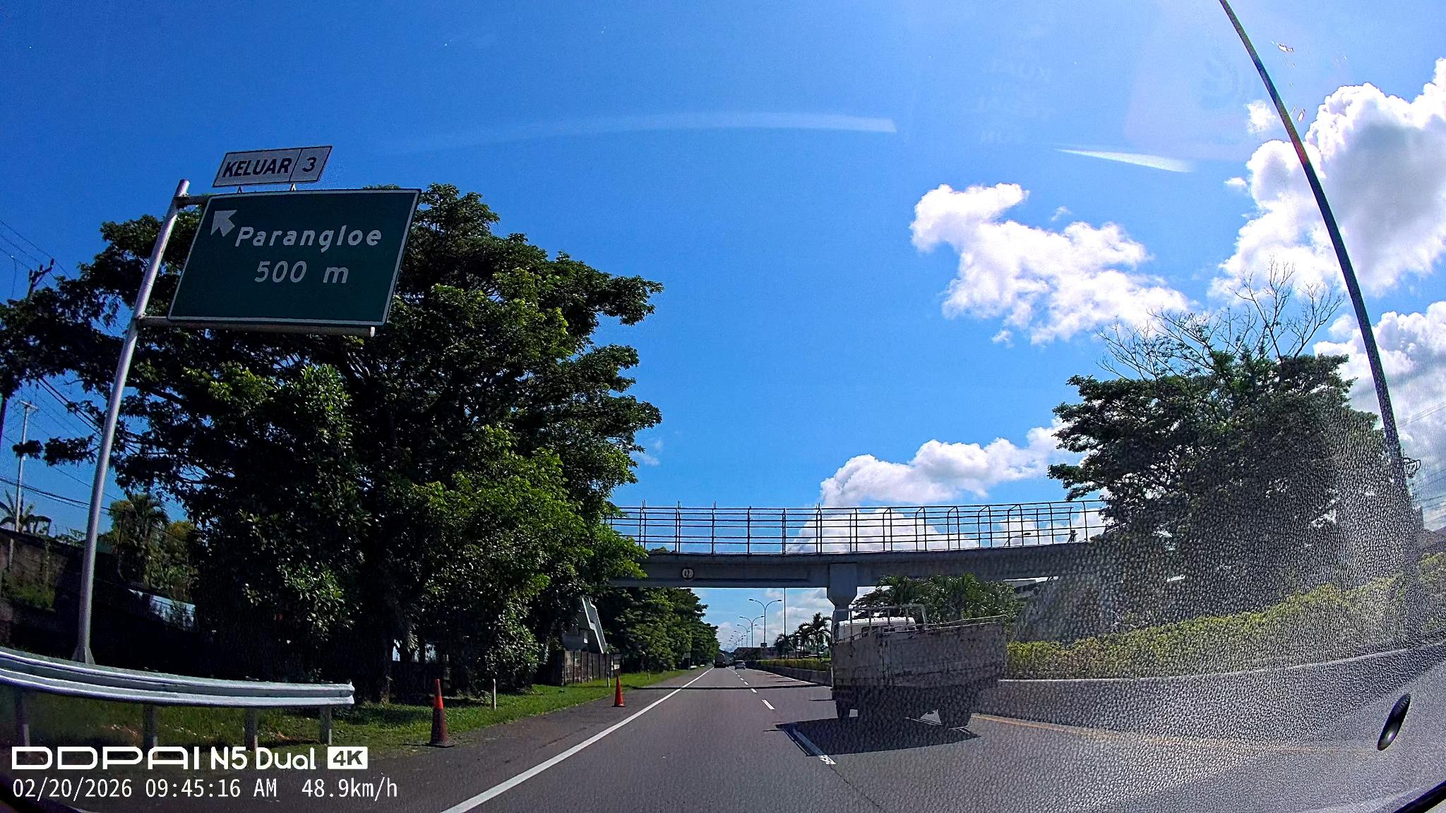rambu_teks: (162, 186, 422, 326)
